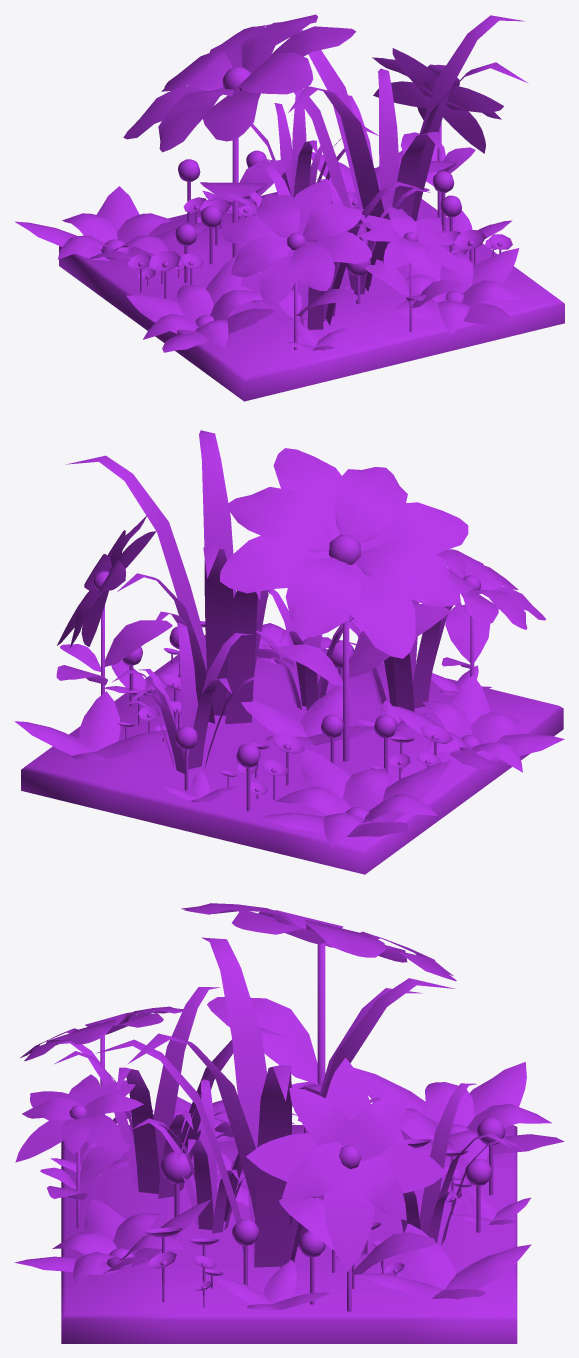
File: SM_Fairy_Roof.fbx
3 views of the same model, one above another, from view 1: azimuth 30°, elevation 25°; view 2: azimuth 150°, elevation 25°; view 3: azimuth 270°, elevation 25° (orthographic). The views are drawn at different scales.
Parts seen in each view (by area): view 1: roof.004; view 2: roof.004; view 3: roof.004.
Part boxes in pixels (<box>): roof.004: <box>15,14,564,401</box>; roof.004: <box>14,430,564,874</box>; roof.004: <box>14,903,564,1343</box>.
Size of the model in its own units: 124 by 81.83 by 116.
